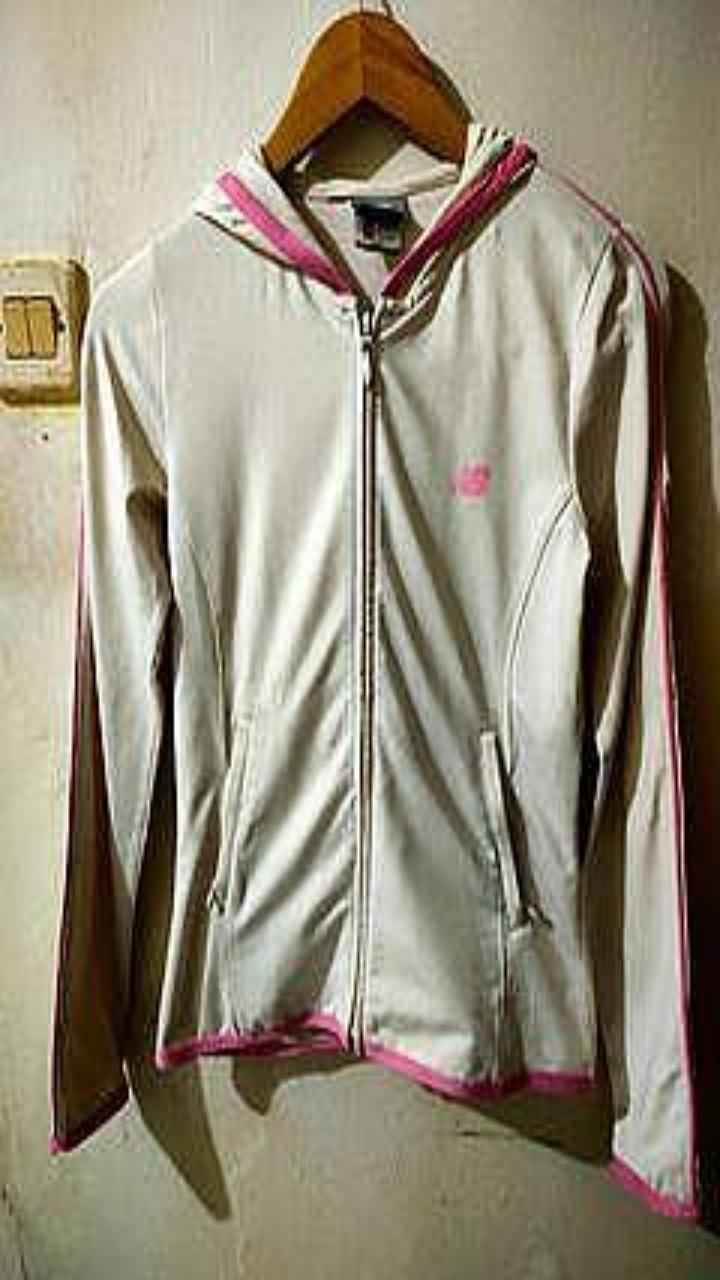Sports_Jacket: (49, 119, 698, 1217)
